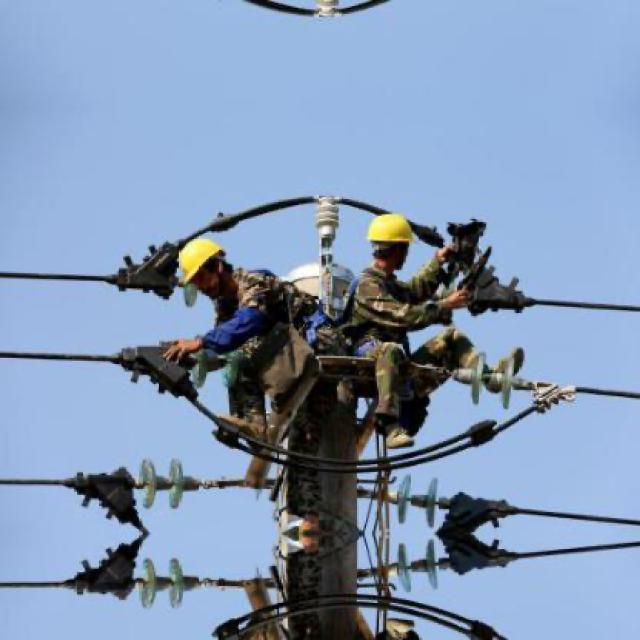con casco: (155, 226, 264, 308)
sin casco: (362, 195, 432, 283)
